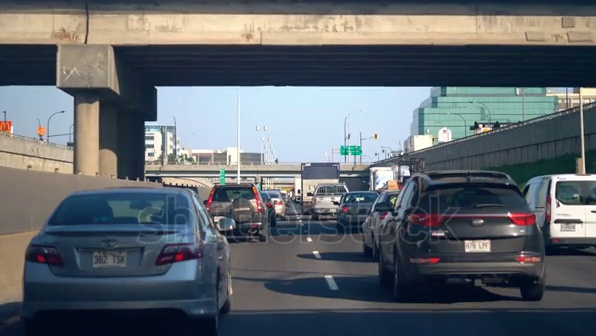licenseplate: (89, 246, 130, 276), (462, 237, 499, 256)
